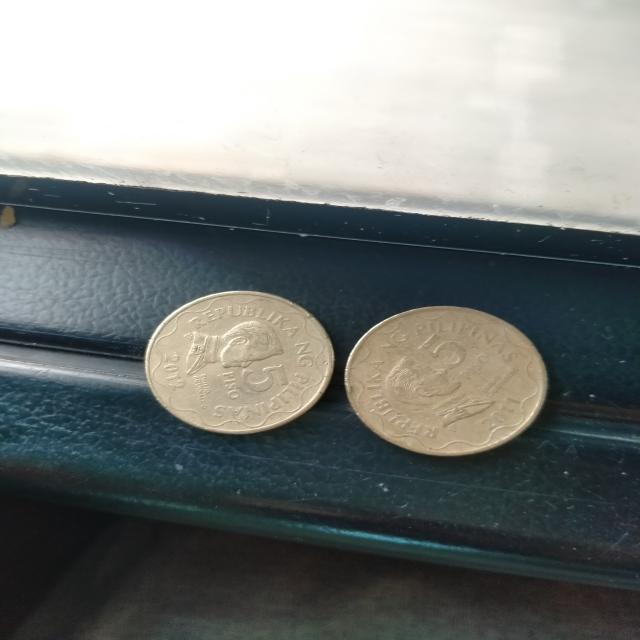5_Old_Front: (420, 322, 484, 387), (218, 358, 290, 402)
